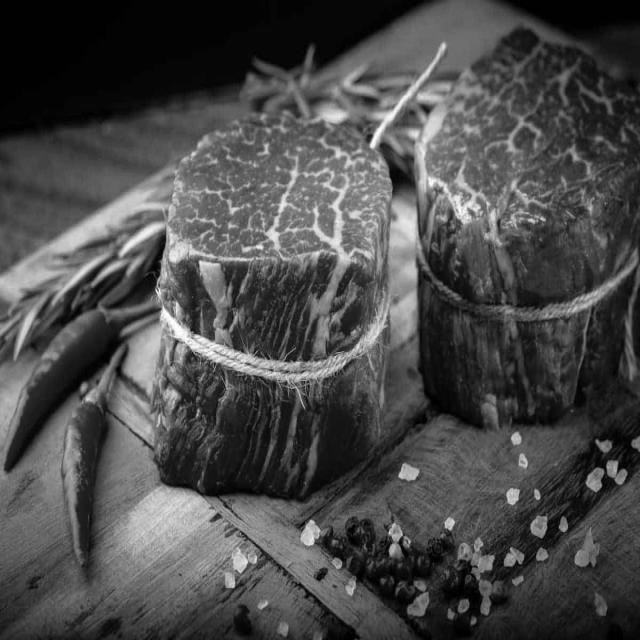beef tenderloin steak: (165, 114, 385, 486), (416, 44, 634, 408)
